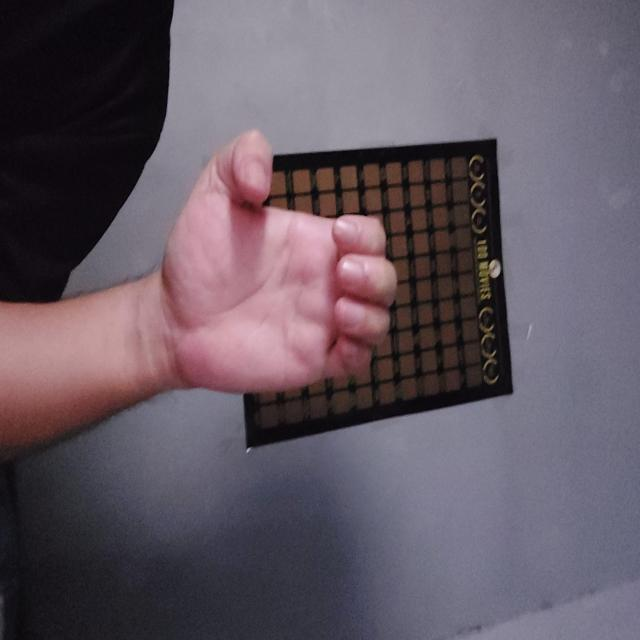E: (128, 239, 402, 479)
